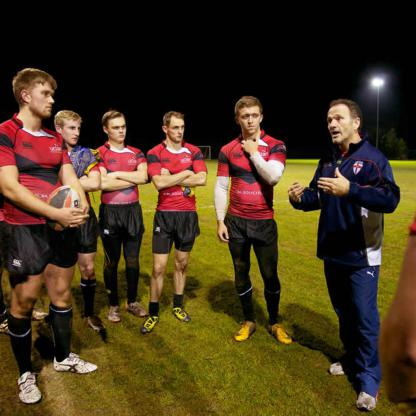face: (28, 79, 55, 118), (329, 109, 356, 143), (240, 108, 261, 134), (108, 118, 127, 142), (63, 120, 81, 145), (169, 120, 184, 141)
